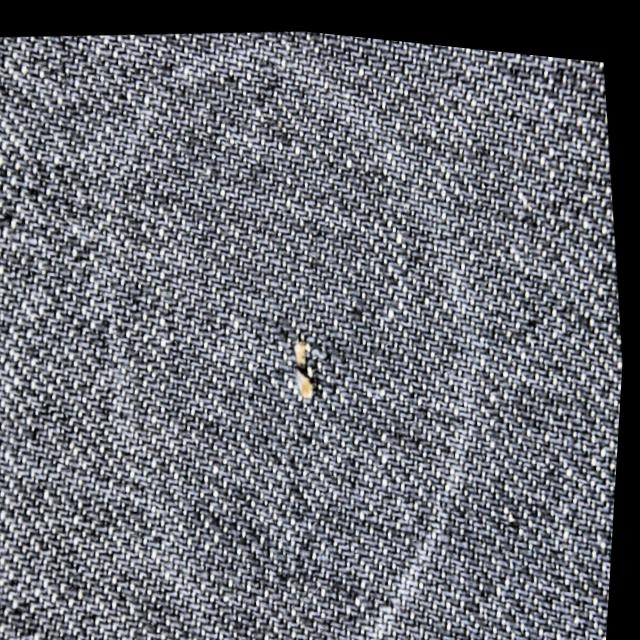Hole: (258, 297, 347, 437)
